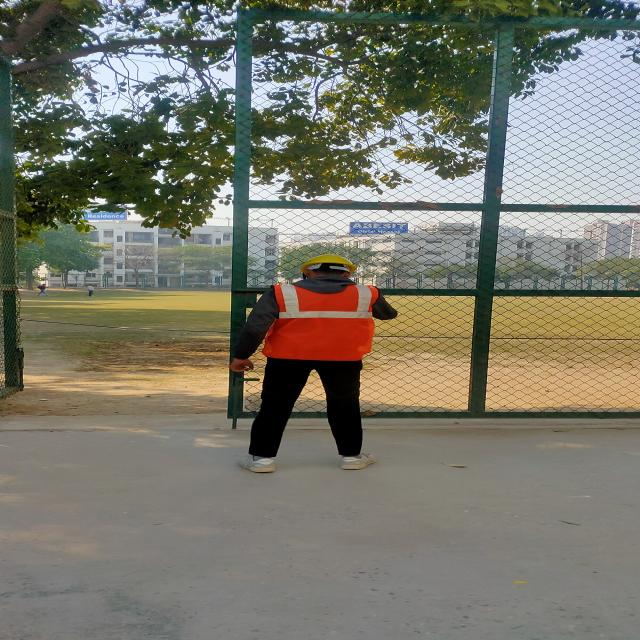safe: (245, 254, 377, 473)
